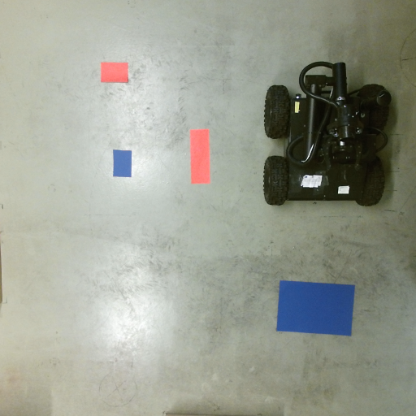Blue: (275, 277, 358, 338), (111, 148, 134, 177)
Jaguar: (262, 60, 386, 210)
Red: (189, 128, 211, 186), (98, 60, 131, 85)
